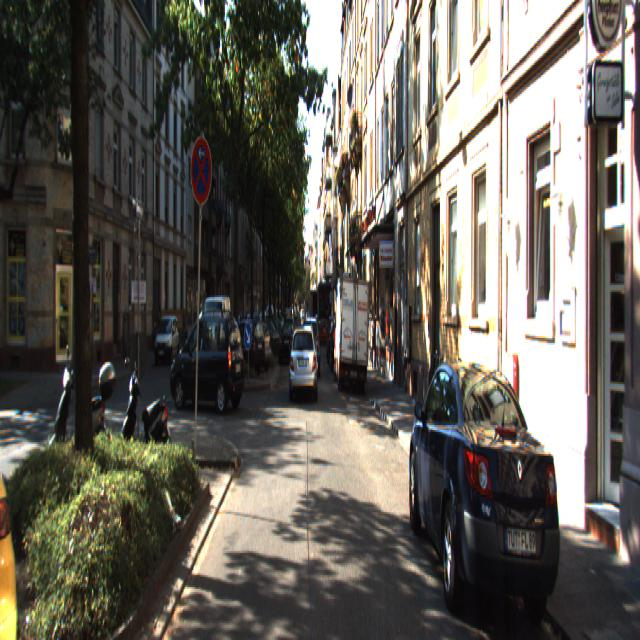Car: (404, 343, 577, 638), (49, 349, 123, 496), (168, 309, 246, 416), (121, 350, 177, 493), (333, 272, 370, 388), (220, 319, 266, 379), (289, 323, 318, 401), (232, 320, 272, 371), (300, 318, 320, 382), (279, 321, 297, 362)
